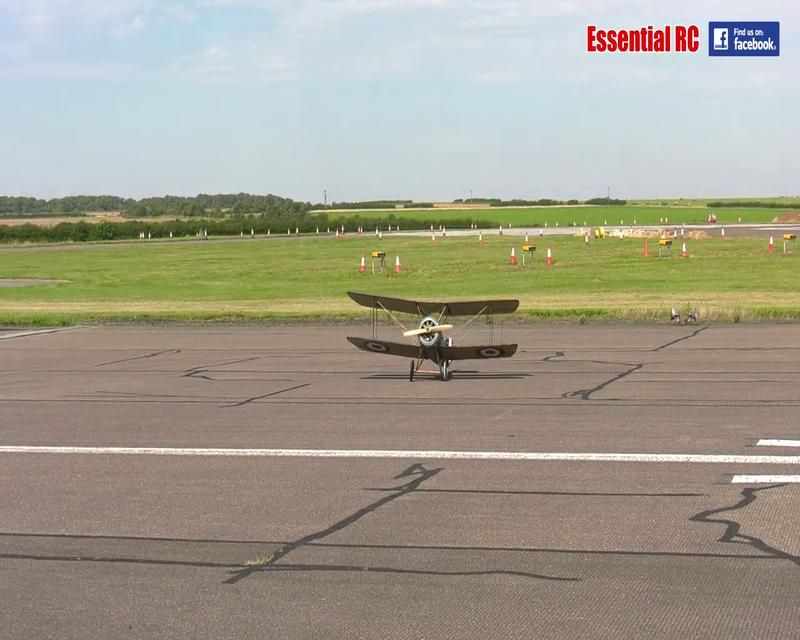UAV: (345, 289, 520, 383)
